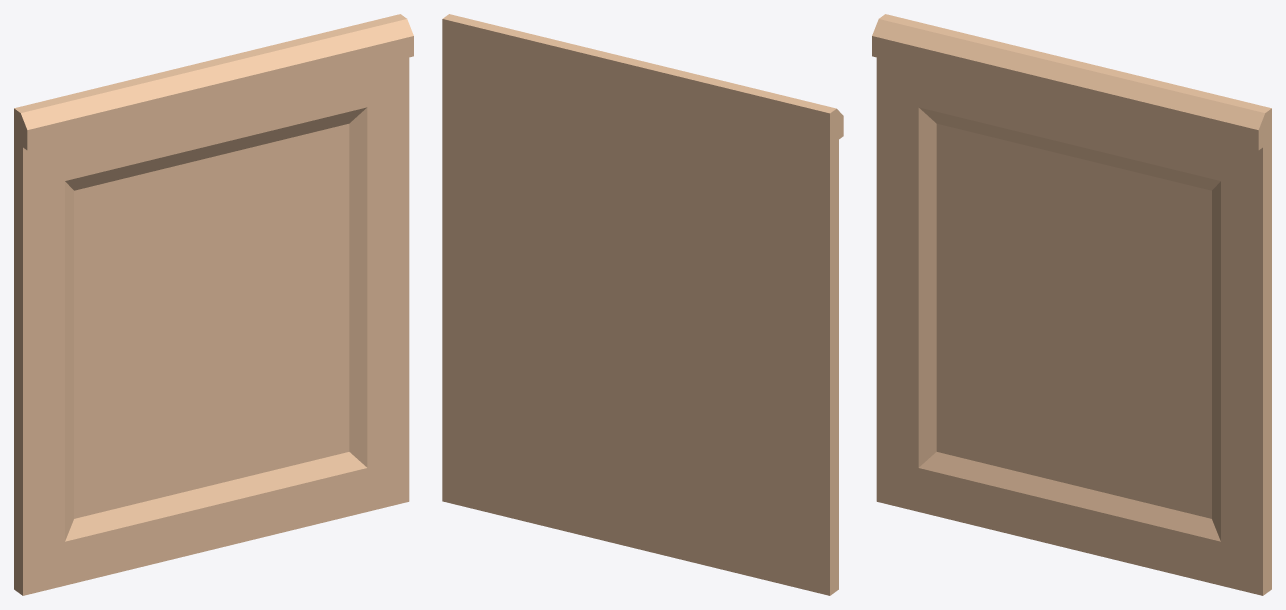
The model's file is paneling.glb.
3 views of the same model, side by side, from view 1: azimuth 30°, elevation 25°; view 2: azimuth 150°, elevation 25°; view 3: azimuth 330°, elevation 25° (orthographic).
Parts seen in each view (by area): view 1: paneling(Clone); view 2: paneling(Clone); view 3: paneling(Clone).
Boxes of the visible parts, x1=… form: paneling(Clone): x1=14, y1=14, x2=413, y2=595; paneling(Clone): x1=442, y1=14, x2=843, y2=595; paneling(Clone): x1=872, y1=14, x2=1271, y2=595.
Size of the model in its own units: 0.5 by 0.5948 by 0.03.
